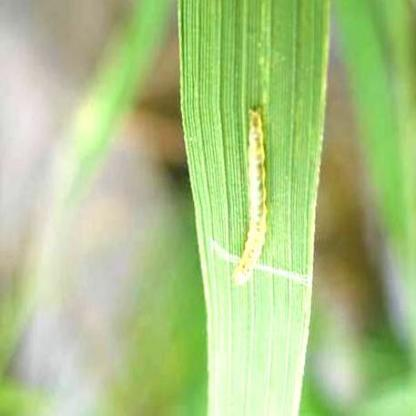leaf-folder: (225, 96, 275, 294)
